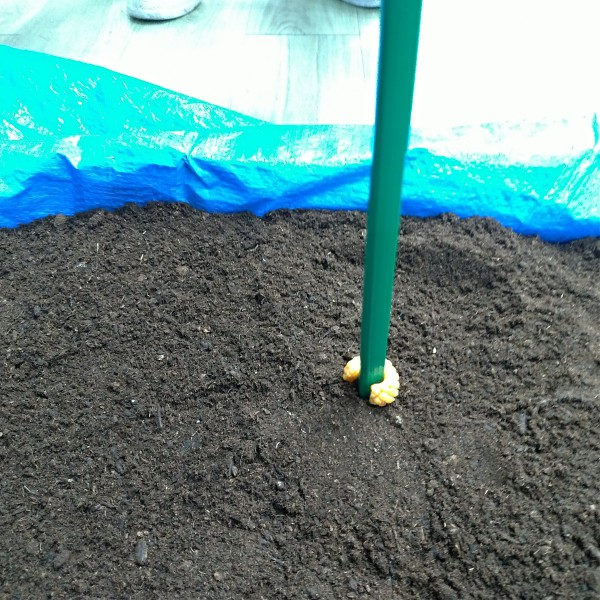eggs: (339, 353, 405, 408)
